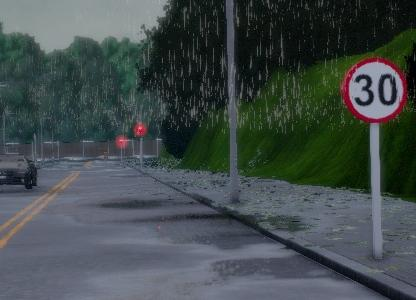Speed_30: (338, 58, 409, 121)
